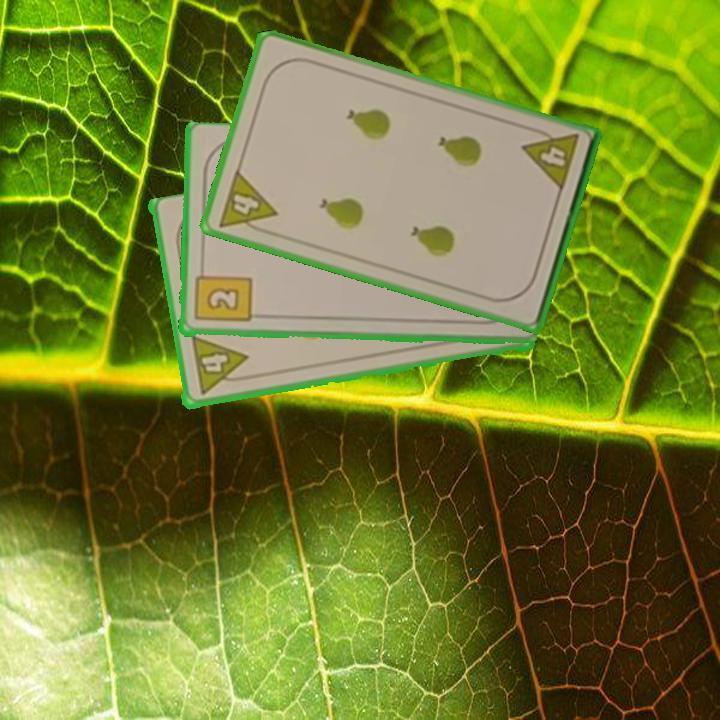2b: (191, 263, 253, 326)
4p: (214, 166, 280, 239), (519, 123, 582, 195), (188, 333, 252, 399)
